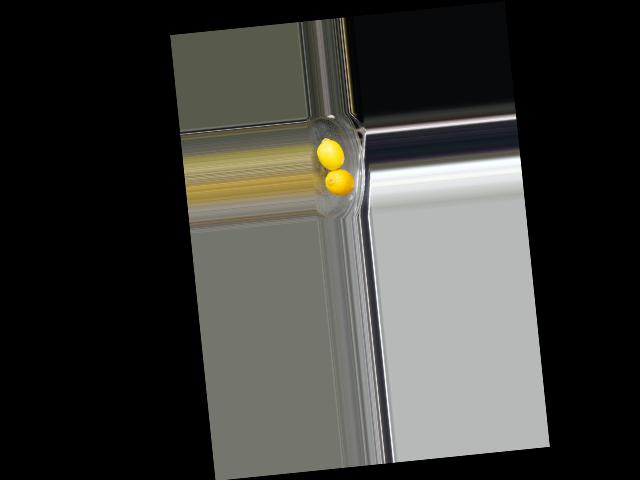lemon: (316, 134, 346, 174)
